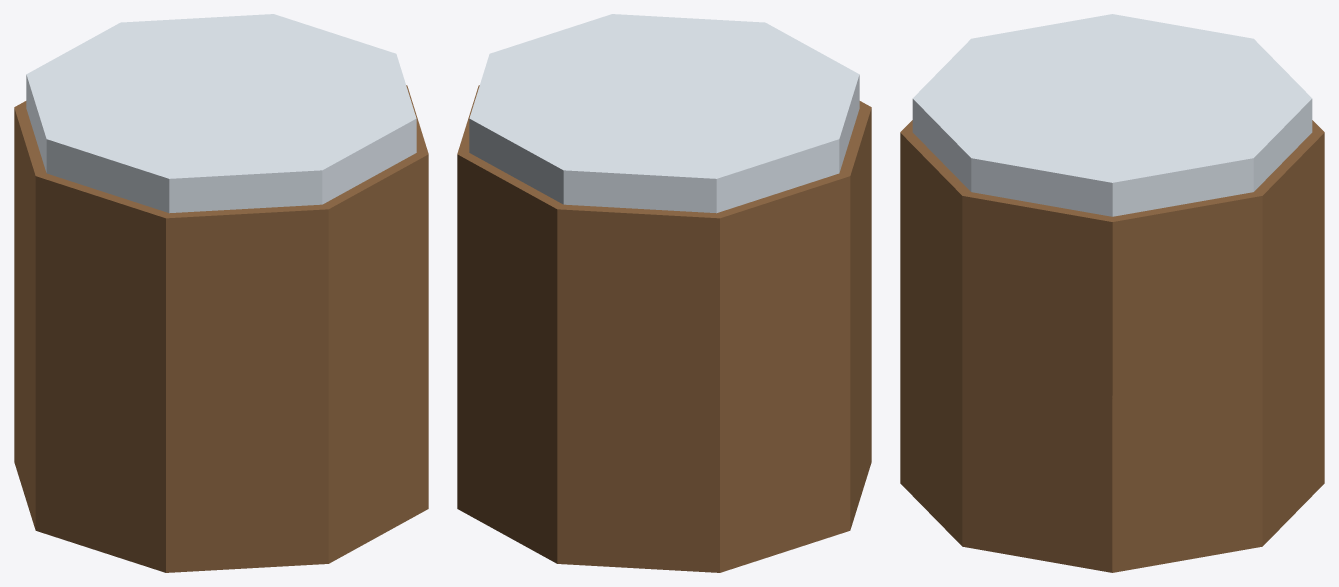
Rendered from Mush_MapProp_Stump_V2.fbx.
3 views of the same model, side by side, from view 1: azimuth 30°, elevation 25°; view 2: azimuth 150°, elevation 25°; view 3: azimuth 270°, elevation 25° (orthographic).
Visible parts, largest first — view 1: Mush_MapProp_Stump_V2; view 2: Mush_MapProp_Stump_V2; view 3: Mush_MapProp_Stump_V2.
Boxes of the visible parts, x1,y1,x2,y2 form: Mush_MapProp_Stump_V2: (14,14,428,572); Mush_MapProp_Stump_V2: (457,14,871,572); Mush_MapProp_Stump_V2: (900,14,1324,572).
Size of the model in its own units: 68 by 68 by 68.
